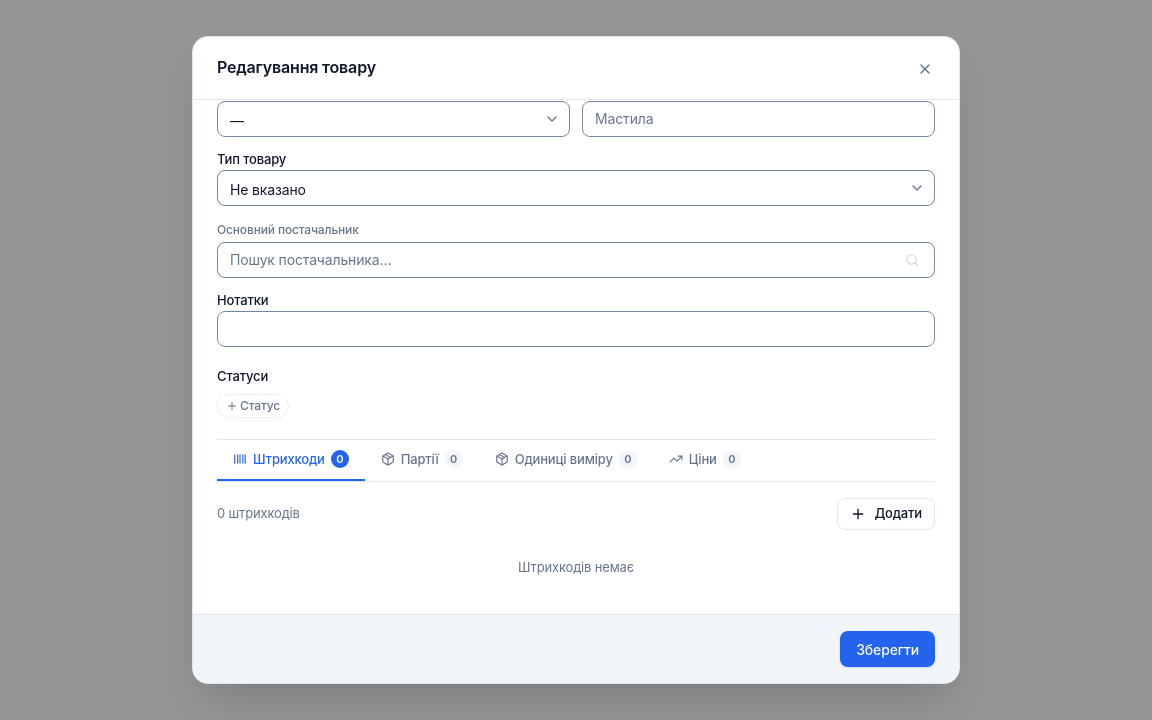
Scenario: GoodEditModal — тексти за мовою інтерфейсу › uk — редагування: вкладки штрихкодів і одиниць виміру без змін
(page scrolled)
Check: the text "Штрихкодів немає" is shown, box [518, 559, 634, 575]
Check: the text "0 штрихкодів" is shown, box [217, 504, 300, 524]
Click the button "Одиниці виміру 0": {"x": 566, "y": 460} [479, 440, 653, 481]
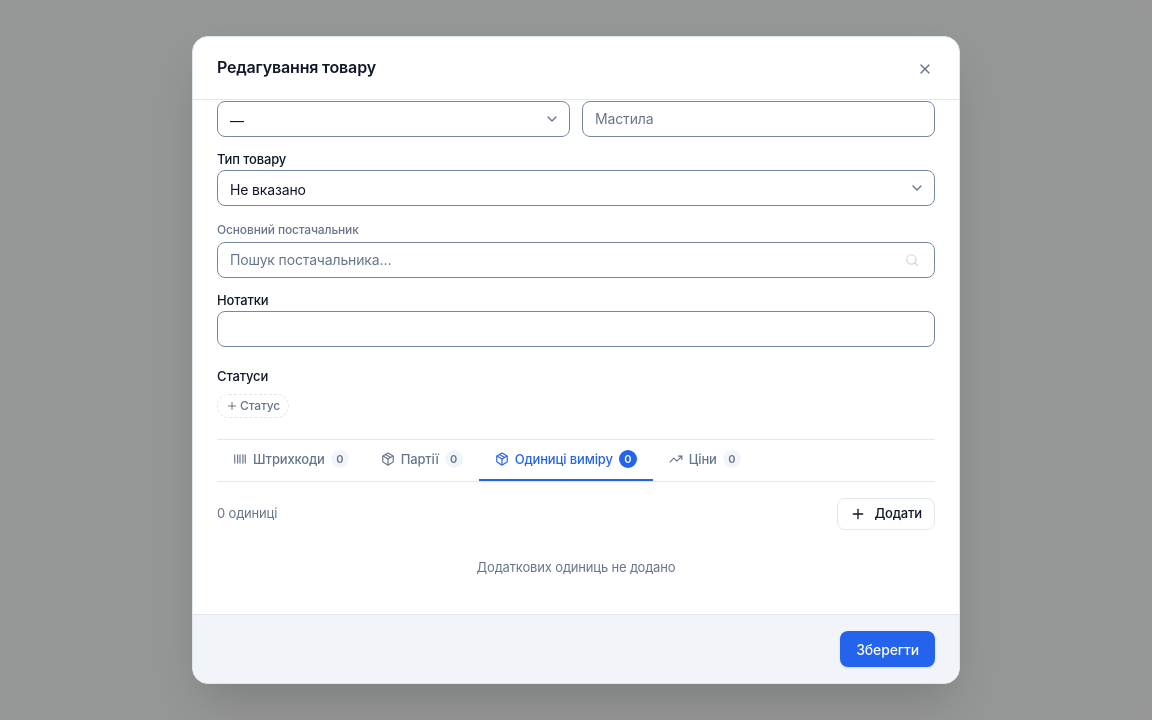
Check: the text "Додаткових одиниць не додано" is shown, box [477, 559, 675, 575]
Check: the text "0 одиниці" is shown, box [217, 504, 277, 524]
